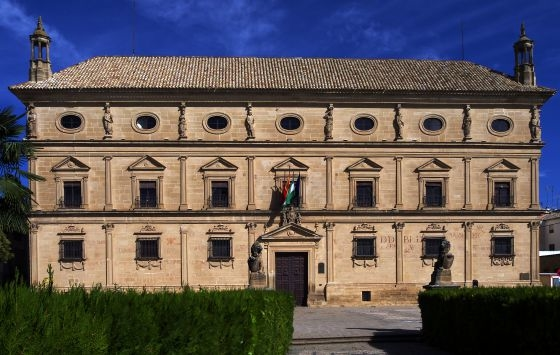fronton: (261, 223, 323, 242), (126, 154, 168, 172), (51, 155, 91, 173), (270, 156, 311, 173), (198, 156, 240, 172), (345, 155, 382, 173), (415, 156, 453, 173), (485, 157, 520, 174)
ojo-de-buey: (56, 109, 86, 134), (131, 110, 161, 134), (203, 112, 234, 135), (486, 113, 515, 137), (419, 112, 447, 136), (275, 112, 305, 134), (349, 113, 379, 135)
vano-adintelado: (267, 243, 316, 310), (202, 172, 237, 212), (54, 173, 89, 213), (129, 173, 164, 212), (348, 174, 380, 213), (486, 174, 518, 212), (417, 174, 448, 212)
